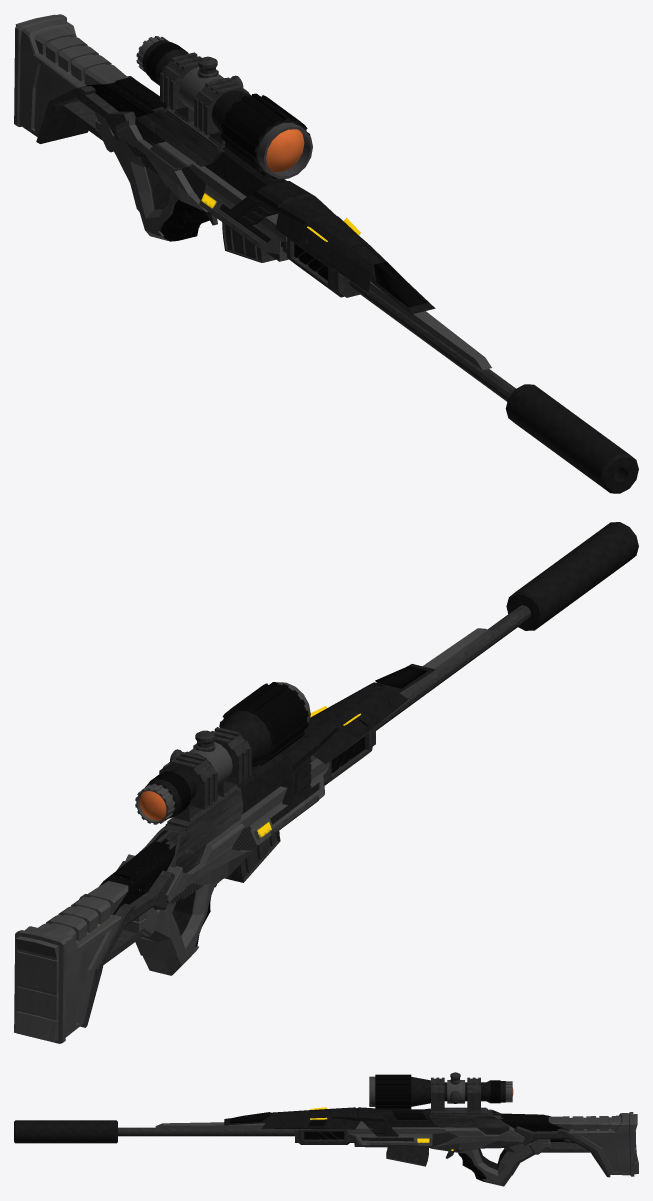
The model's file is gun2.fbx.
3 renders of one model, top to bottom at view 1: azimuth 30°, elevation 25°; view 2: azimuth 150°, elevation 25°; view 3: azimuth 270°, elevation 25°, orthographic. The views are drawn at different scales.
Parts seen in each view (by area): view 1: Cube.084, Cylinder.086, Cylinder.089, Cylinder.091; view 2: Cube.084, Cylinder.086, Cylinder.089, Cylinder.091; view 3: Cube.084, Cylinder.086, Cylinder.089, Cylinder.091.
Part boxes in pixels (x1,y1,x2,y2): Cube.084: (14, 14, 515, 401); Cylinder.086: (136, 36, 312, 179); Cylinder.089: (505, 384, 638, 493); Cylinder.091: (222, 222, 275, 262); Cube.084: (14, 605, 530, 1043); Cylinder.086: (135, 682, 310, 831); Cylinder.089: (506, 522, 638, 630); Cylinder.091: (225, 831, 280, 882); Cube.084: (118, 1107, 638, 1186); Cylinder.086: (369, 1072, 513, 1114); Cylinder.089: (14, 1120, 117, 1143); Cylinder.091: (386, 1147, 428, 1166).
Size of the model in its own units: 85.2 by 254 by 1305.
Materials: 1 (1 with a texture image).
